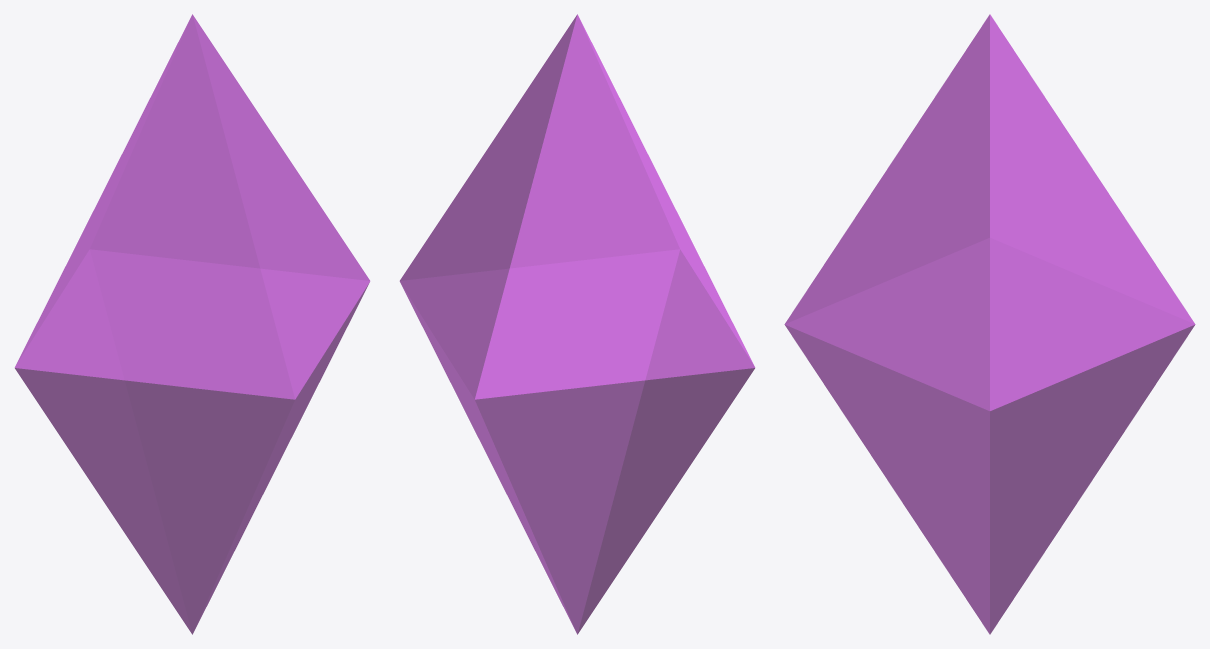
The model's file is diamond.glb.
3 views of the same model, side by side, from view 1: azimuth 30°, elevation 25°; view 2: azimuth 150°, elevation 25°; view 3: azimuth 270°, elevation 25° (orthographic).
Visible parts, largest first — view 1: Cylinder; view 2: Cylinder; view 3: Cylinder.
Boxes of the visible parts, <box> form: Cylinder: <box>14,14,370,634</box>; Cylinder: <box>399,14,755,634</box>; Cylinder: <box>784,14,1195,634</box>.
Bounding box in the file's own units: 1.2 × 2 × 1.2.
